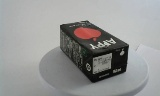appy: (54, 19, 121, 83)
